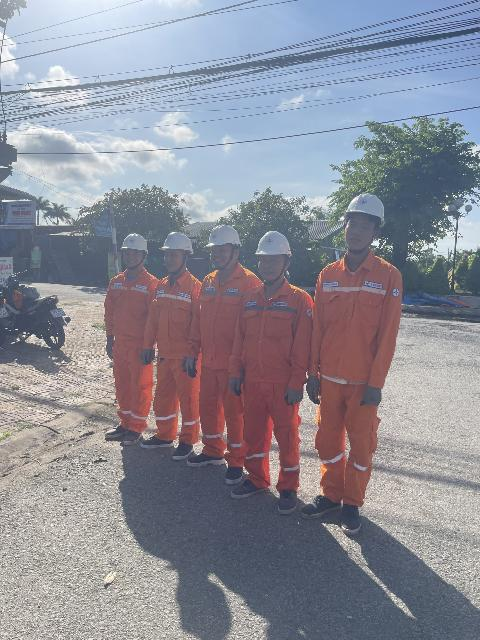gloves: (306, 368, 323, 409), (360, 381, 385, 408), (284, 382, 307, 409), (225, 371, 247, 397), (177, 359, 200, 379), (98, 338, 115, 363), (138, 348, 158, 366)
helmet: (340, 182, 385, 225), (114, 227, 154, 266), (157, 224, 192, 261), (249, 236, 293, 263), (202, 220, 239, 251)
shoes: (331, 501, 368, 535), (274, 480, 300, 515), (185, 452, 225, 474), (229, 478, 264, 502), (298, 499, 343, 517), (217, 462, 245, 484), (137, 435, 174, 450), (106, 419, 124, 440), (118, 429, 140, 444), (171, 445, 194, 458)
